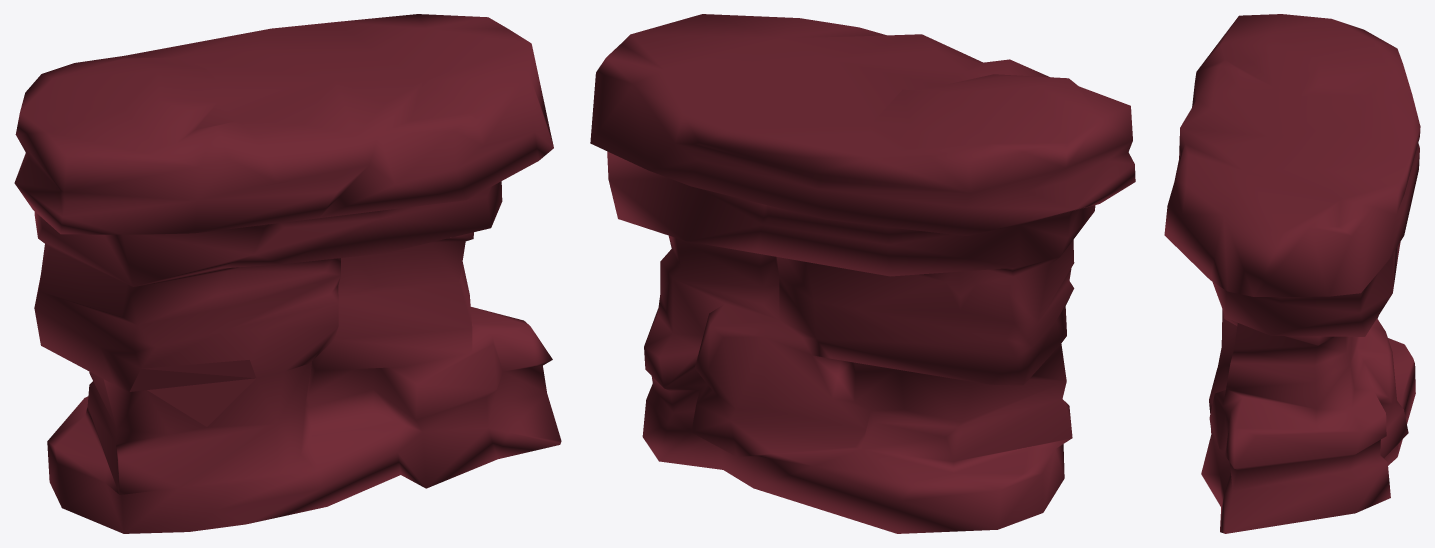
The model's file is Mesh_Wall_c.fbx.
3 views of the same model, side by side, from view 1: azimuth 30°, elevation 25°; view 2: azimuth 150°, elevation 25°; view 3: azimuth 270°, elevation 25° (orthographic). The views are drawn at different scales.
Parts seen in each view (by area): view 1: wall_c; view 2: wall_c; view 3: wall_c.
Part boxes in pixels (<box>): wall_c: <box>14,14,561,533</box>; wall_c: <box>590,14,1135,533</box>; wall_c: <box>1164,14,1420,533</box>.
Size of the model in its own units: 14.82 by 11.61 by 7.98.
